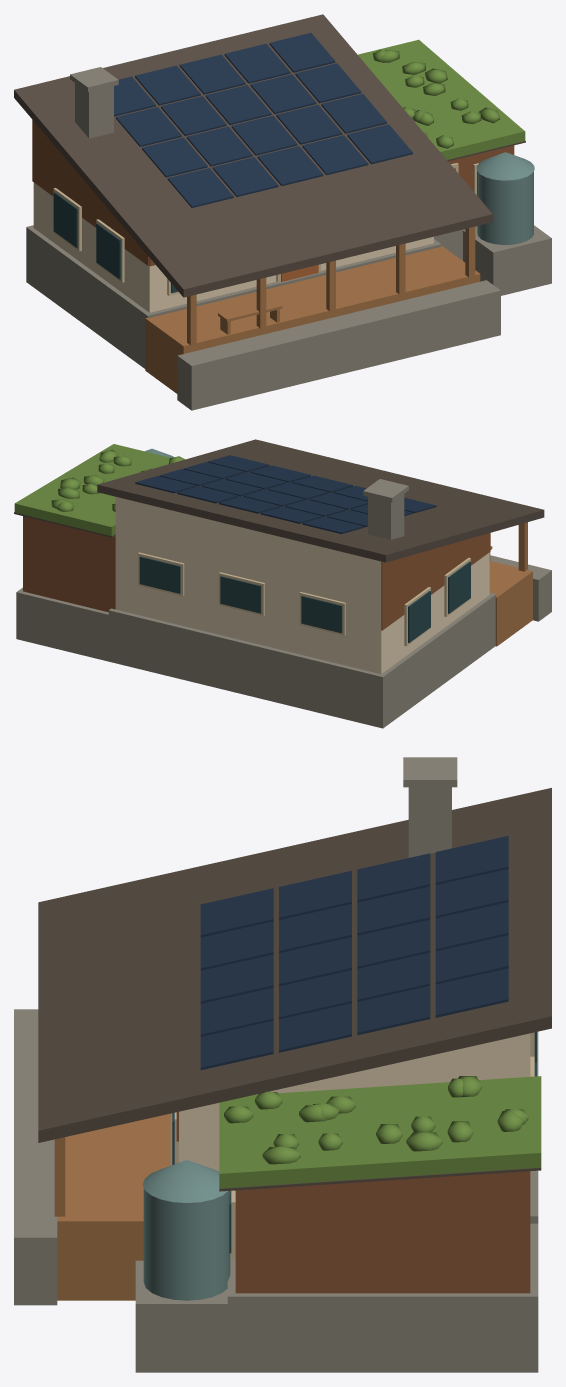
Rendered from homestead.glb.
3 views of the same model, one above another, from view 1: azimuth 30°, elevation 25°; view 2: azimuth 150°, elevation 25°; view 3: azimuth 270°, elevation 25° (orthographic). The views are drawn at different scales.
Visible parts, largest first — view 1: homestead; view 2: homestead; view 3: homestead.
Part boxes in pixels (left/top/right/bottom): homestead: left=14, top=14, right=551, bottom=410; homestead: left=14, top=439, right=551, bottom=728; homestead: left=14, top=757, right=551, bottom=1372.
Size of the model in its own units: 14.61 by 7.75 by 11.18.
